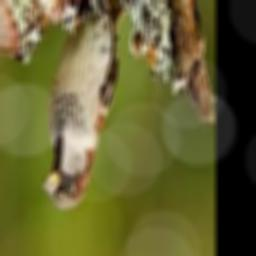Sparrow: (42, 0, 127, 209)
